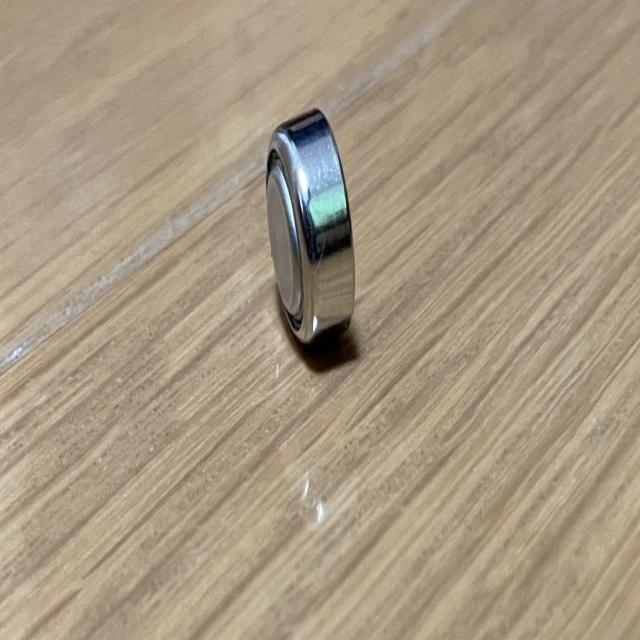COIN: (268, 103, 356, 362)
